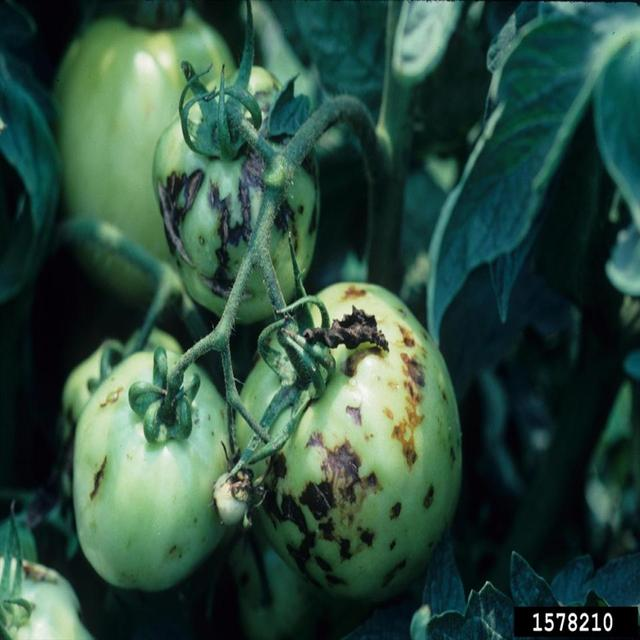Spotted wilt Virus Fruit: (101, 129, 233, 313)
